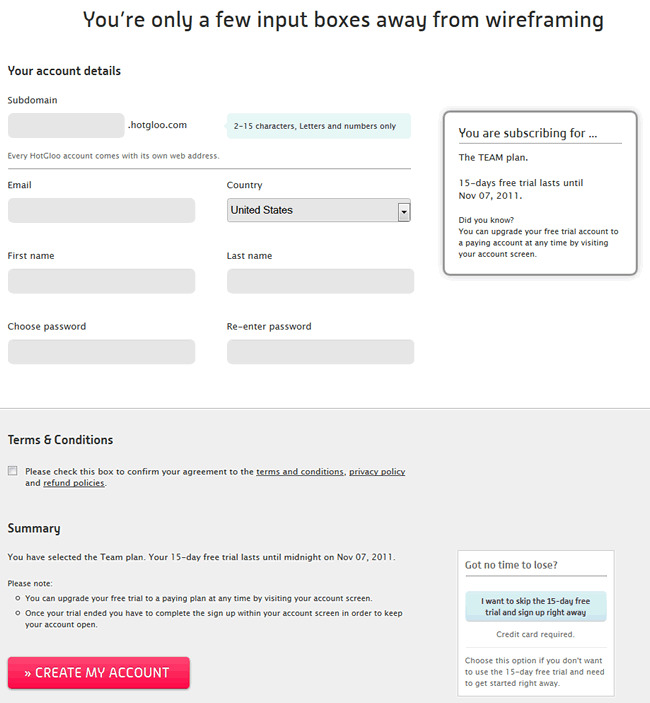_form_: (1, 49, 420, 463), (1, 287, 418, 700)
button: (7, 657, 191, 690)
checkbox: (7, 463, 21, 477)
checkbox_with_label: (5, 462, 405, 488)
field: (4, 335, 196, 365), (224, 266, 416, 295), (5, 195, 196, 223), (6, 266, 196, 294), (224, 338, 415, 365), (6, 111, 126, 138)
field_with_label: (221, 250, 418, 297), (2, 320, 197, 367), (2, 250, 196, 296), (223, 321, 416, 366), (223, 180, 412, 225), (3, 180, 196, 224), (3, 95, 128, 141)
select: (226, 197, 411, 223)
